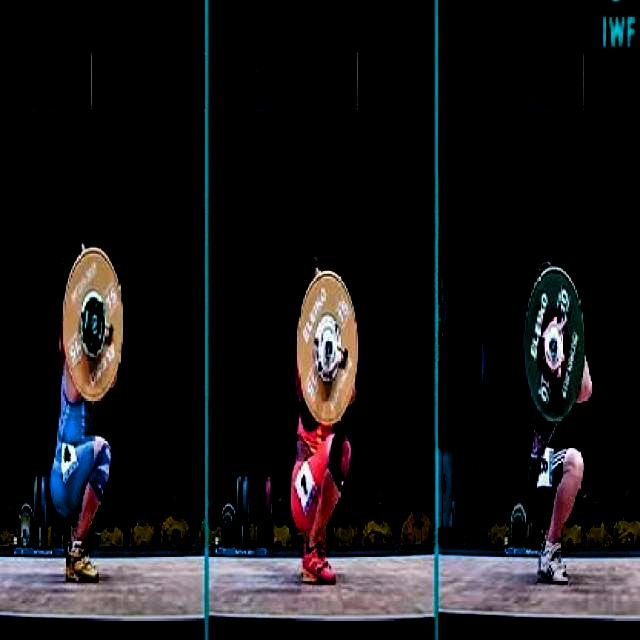barbell: (519, 263, 592, 430), (291, 266, 362, 437), (61, 243, 131, 412)
